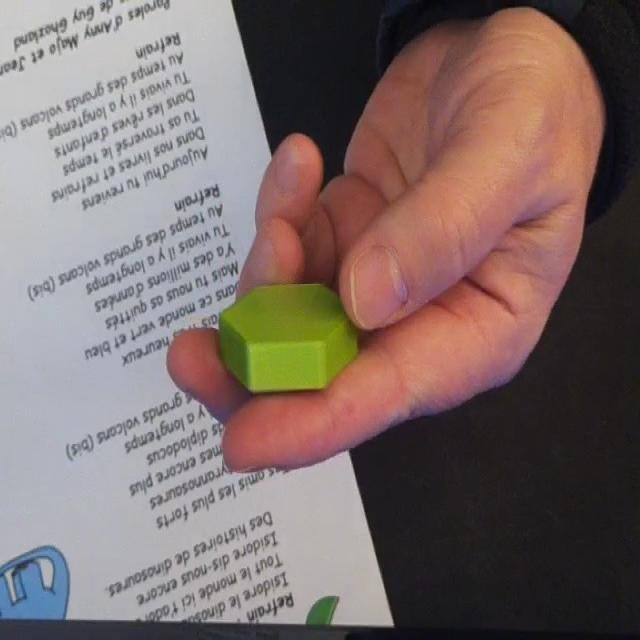hexagon: (216, 280, 360, 394)
